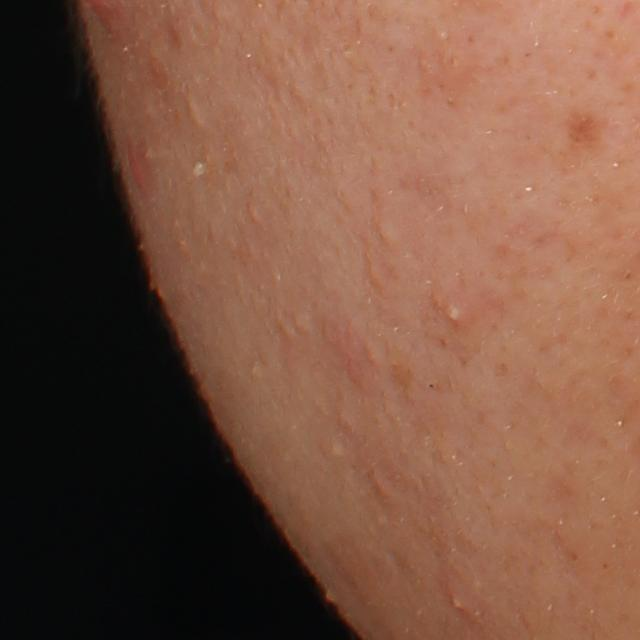comedo: (375, 223, 403, 251), (328, 436, 355, 461), (294, 308, 313, 337), (191, 157, 209, 182)
pustule: (434, 291, 465, 328)
